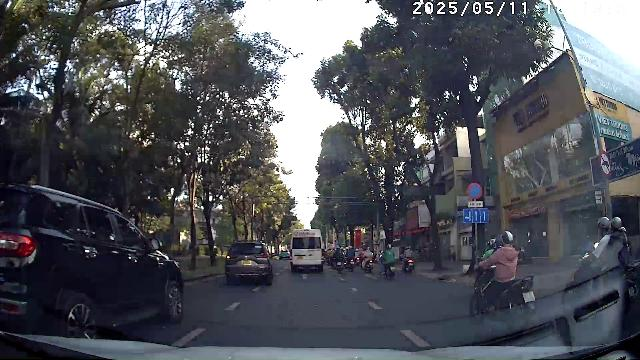131a-cam-do-xe: (467, 182, 482, 199)
